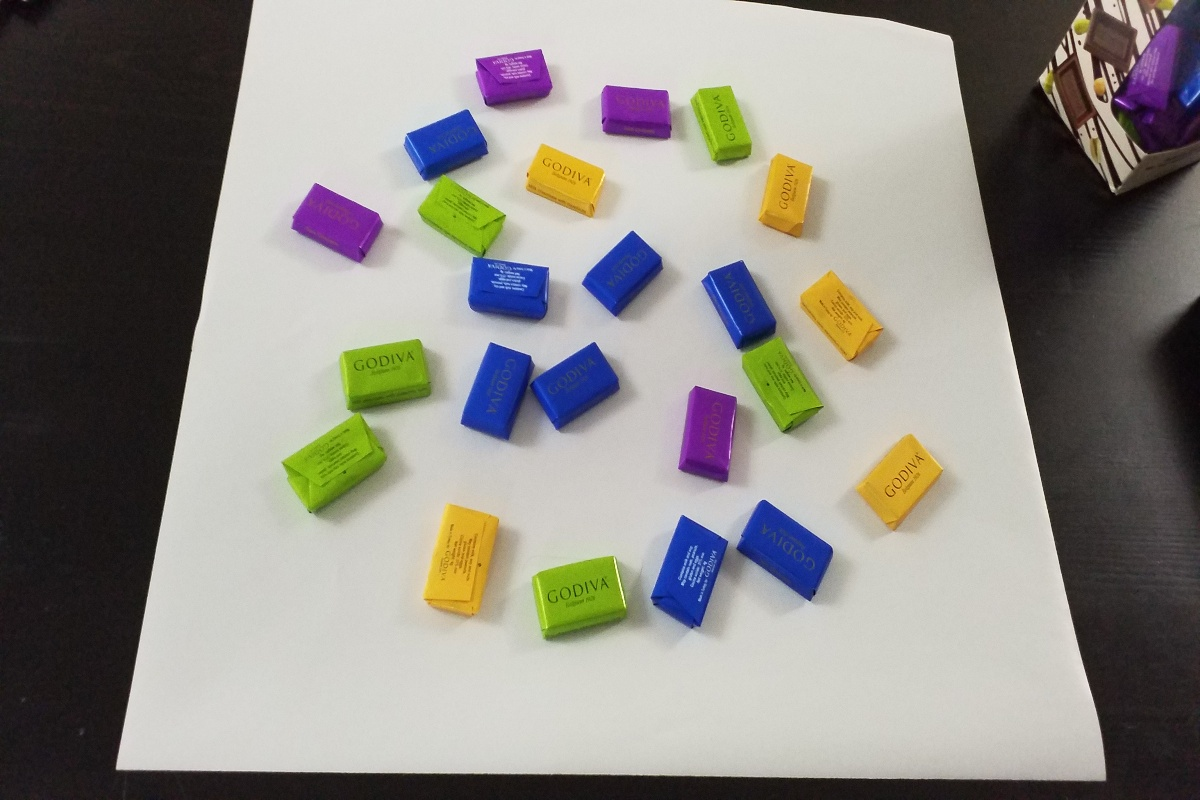chocolate_blue: (642, 510, 736, 636), (736, 496, 838, 605), (526, 341, 625, 435), (455, 339, 537, 445), (695, 255, 779, 353), (578, 227, 667, 318), (399, 102, 491, 185), (463, 254, 554, 328)
chocolate_green: (275, 411, 392, 520), (523, 548, 636, 645), (741, 333, 828, 438), (327, 335, 437, 414), (689, 83, 755, 168)
chocolate_purple: (280, 174, 388, 268), (668, 378, 746, 491), (468, 44, 557, 112), (594, 80, 677, 143)
chocolate_yellow: (416, 499, 508, 624), (850, 429, 948, 532), (794, 264, 891, 365), (524, 138, 606, 220), (759, 148, 816, 242)
